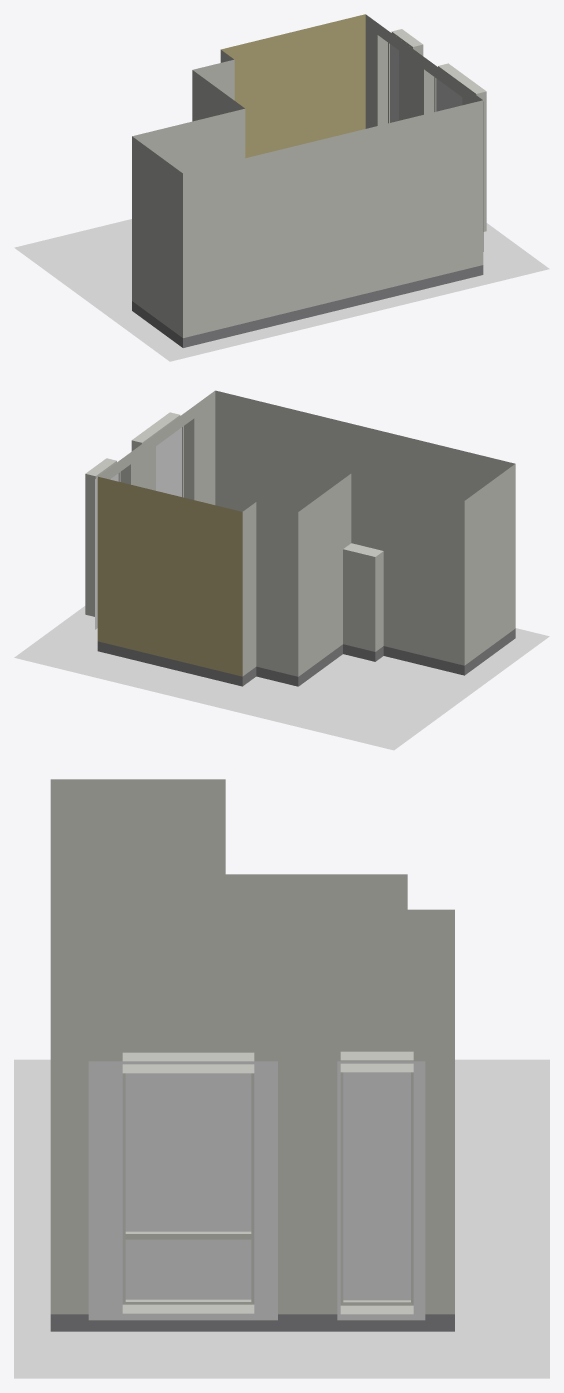
The model's file is room.fbx.
3 views of the same model, one above another, from view 1: azimuth 30°, elevation 25°; view 2: azimuth 150°, elevation 25°; view 3: azimuth 270°, elevation 25° (orthographic). The views are drawn at different scales.
Visible parts, largest first — view 1: Væg, Gulv, Vindue, Vindue.001; view 2: Væg, Gulv, Vindue, Vindue.001; view 3: Væg, Gulv, Vindue, Vindue.001.
Part boxes in pixels (<box>): Væg: <box>132,14,486,347</box>; Gulv: <box>14,219,549,361</box>; Vindue: <box>436,78,483,251</box>; Vindue.001: <box>390,44,398,122</box>; Væg: <box>85,390,515,686</box>; Gulv: <box>14,606,549,750</box>; Vindue: <box>156,427,181,496</box>; Vindue.001: <box>95,473,118,629</box>; Væg: <box>50,779,454,1331</box>; Gulv: <box>14,1059,549,1378</box>; Vindue: <box>88,1061,277,1320</box>; Vindue.001: <box>337,1061,425,1320</box>.
Bounding box in the file's own units: 797 × 350 × 566.
